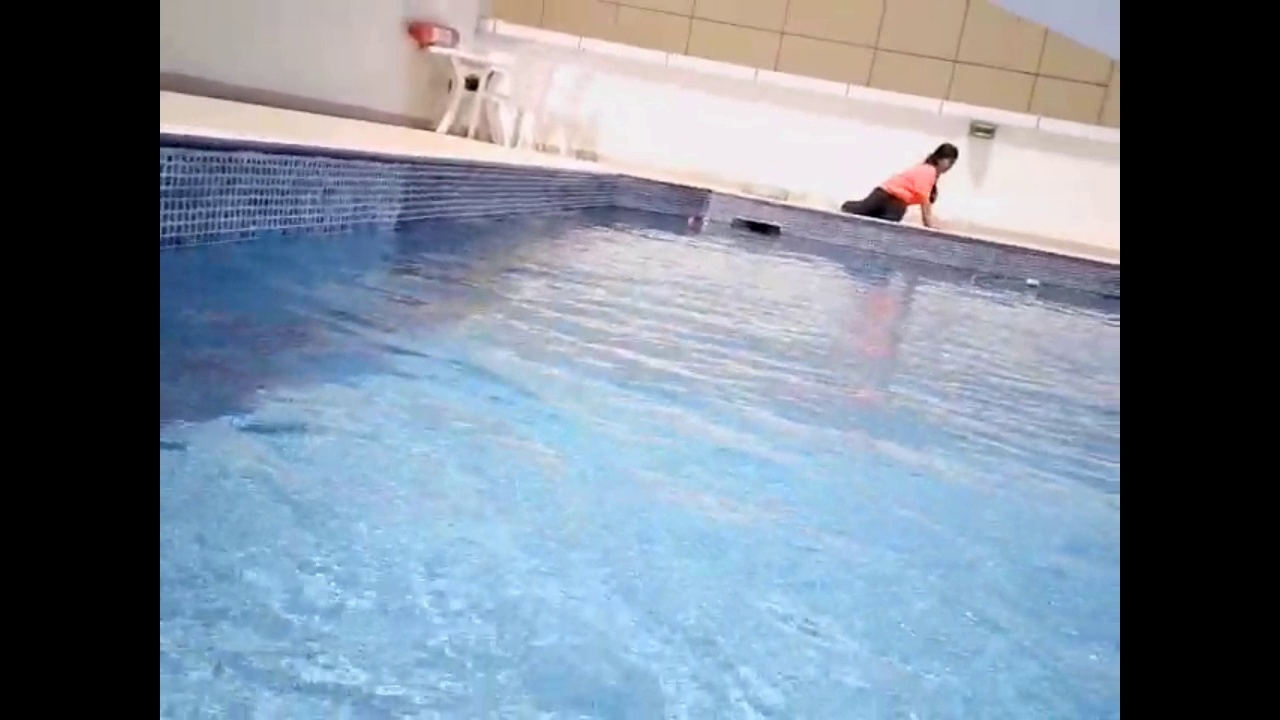debris: (1018, 272, 1046, 295), (682, 213, 699, 232), (697, 215, 713, 230)
